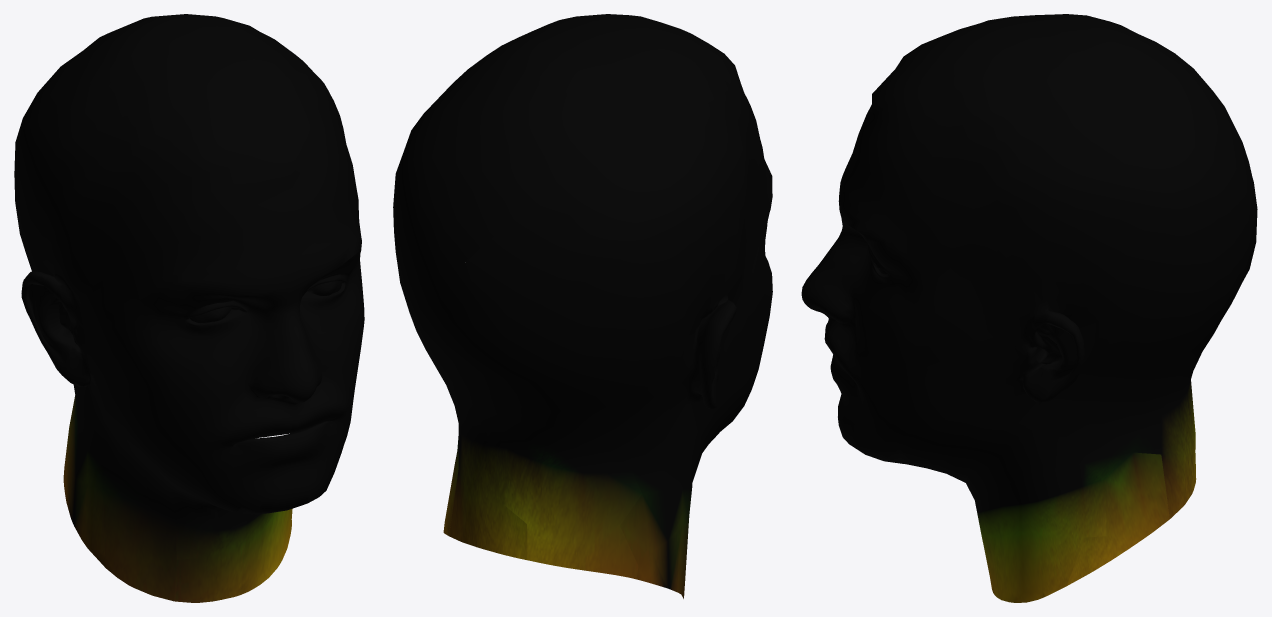
The model's file is MEL_10.glb.
The picture shows the model from 3 angles, left to right: view 1: azimuth 30°, elevation 25°; view 2: azimuth 150°, elevation 25°; view 3: azimuth 270°, elevation 25°; orthographic projection. The views are drawn at different scales.
Visible parts, largest first — view 1: tripo_8161ebc2_06ce_4fef_ba13_89dd511de456; view 2: tripo_8161ebc2_06ce_4fef_ba13_89dd511de456; view 3: tripo_8161ebc2_06ce_4fef_ba13_89dd511de456.
Boxes of the visible parts, x1,y1,x2,y2 form: tripo_8161ebc2_06ce_4fef_ba13_89dd511de456: (14,14,364,602); tripo_8161ebc2_06ce_4fef_ba13_89dd511de456: (393,14,772,598); tripo_8161ebc2_06ce_4fef_ba13_89dd511de456: (801,14,1257,602).
Size of the model in its own units: 0.1934 by 0.3297 by 0.2481.
Materials: 1 (1 with a texture image).
